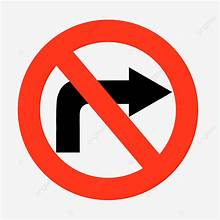No_turn_right: (16, 18, 200, 201)
